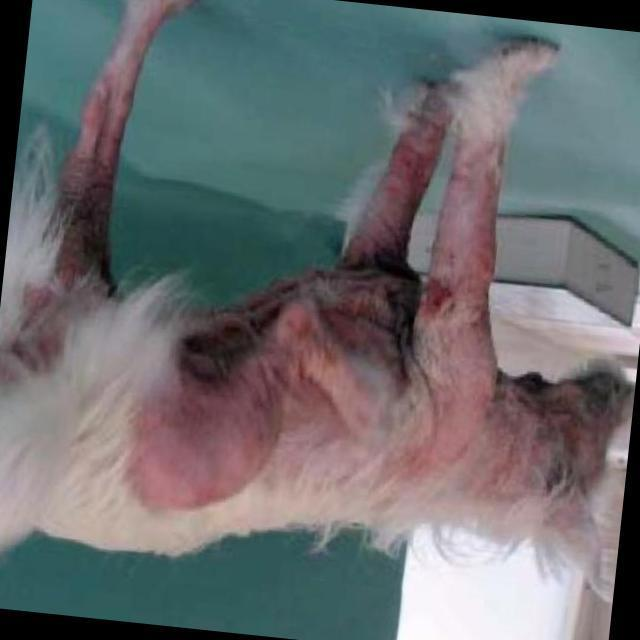allergic dermatitis: (100, 323, 377, 488), (432, 129, 493, 478), (356, 380, 520, 492), (61, 131, 110, 357), (358, 125, 413, 313), (98, 22, 129, 135), (400, 118, 440, 185)
